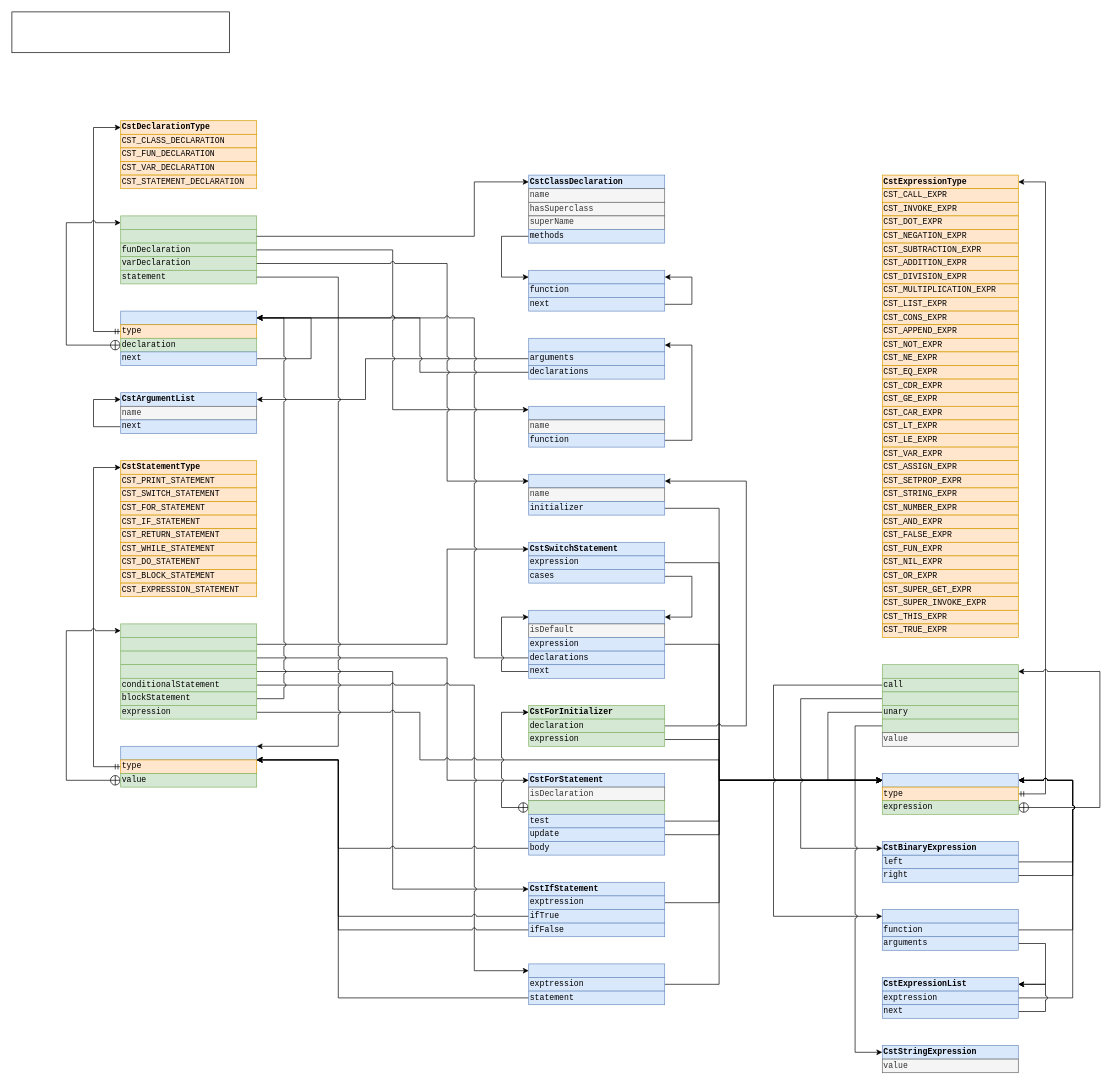
Some shapes in this 1118 by 1085 pixel diagram are drawn without their labels. Each missing label, with the centre of its shape:
"binary" belongs at point 950,698.
"classDeclaration" belongs at point 188,236.
"Concrete Syntax Tree" belongs at point 120,32.
"CstCallExpression" belongs at point 950,916.
"CstCaseList" belongs at point 596,617.
"CstConditionalStatement" belongs at point 596,970.
"CstDeclarationList" belongs at point 188,317.
"CstDeclarationValue" belongs at point 188,222.
"CstExpression" belongs at point 950,780.
"CstExpressionValue" belongs at point 950,671.
"CstFunction" belongs at point 596,345.
"CstFunDeclaration" belongs at point 596,413.
"CstMethodList" belongs at point 596,277.
"CstStatement" belongs at point 188,753.
"CstStatementValue" belongs at point 188,630.
"CstVarDeclaration" belongs at point 596,481.
"forStatement" belongs at point 188,657.
"ifStatement" belongs at point 188,671.
"init" belongs at point 596,807.
"string" belongs at point 950,725.
"switchStatement" belongs at point 188,644.
